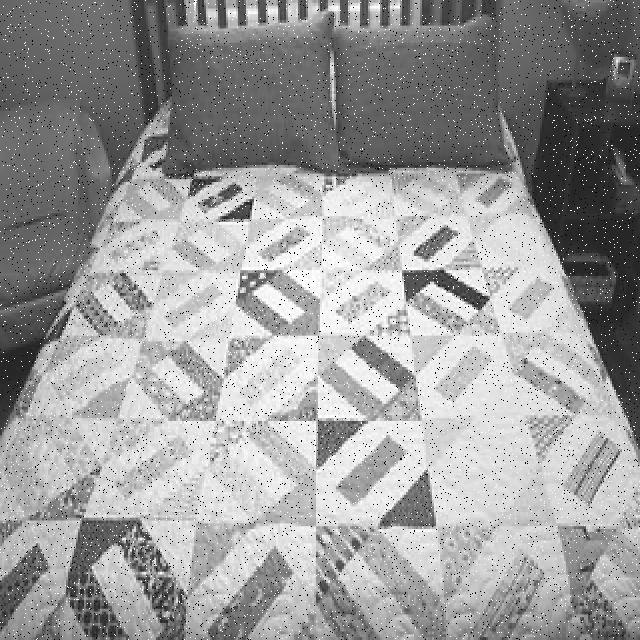bed: (1, 2, 640, 639)
